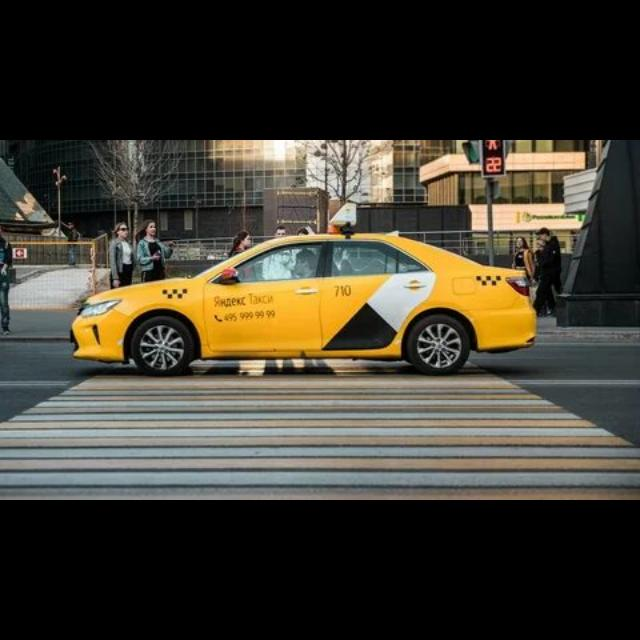taxi: (70, 203, 538, 377)
